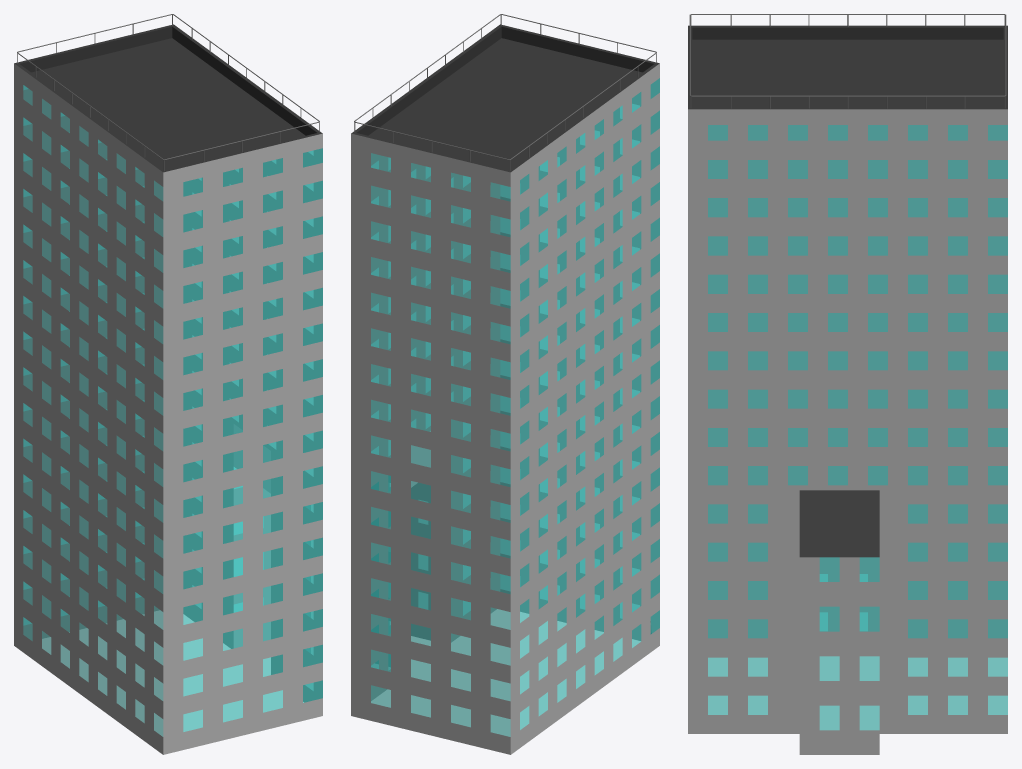
The model's file is build.obj.
The picture shows the model from 3 angles, left to right: view 1: azimuth 30°, elevation 25°; view 2: azimuth 150°, elevation 25°; view 3: azimuth 270°, elevation 25°; orthographic projection. The views are drawn at different scales.
Parts seen in each view (by area): view 1: Mesh6 Component1 Model; view 2: Mesh6 Component1 Model; view 3: Mesh6 Component1 Model.
Boxes of the visible parts, x1,y1,x2,y2 form: Mesh6 Component1 Model: (14,14,322,754); Mesh6 Component1 Model: (351,14,659,754); Mesh6 Component1 Model: (688,14,1007,754).
Size of the model in its own units: 529 by 1505 by 685.
